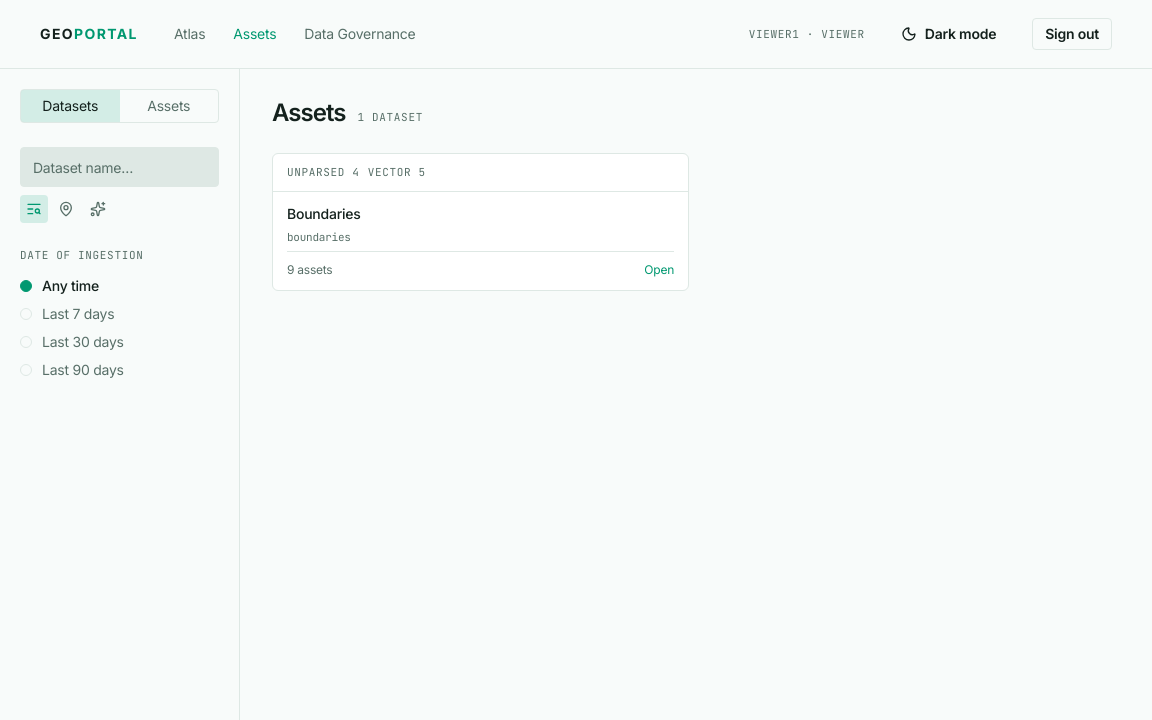
Test case: goes back to the first page when a filter changes
Step 1. Click the radio button labelled "Assets" → (169, 106), box [120,90,218,122]
(page scrolled)
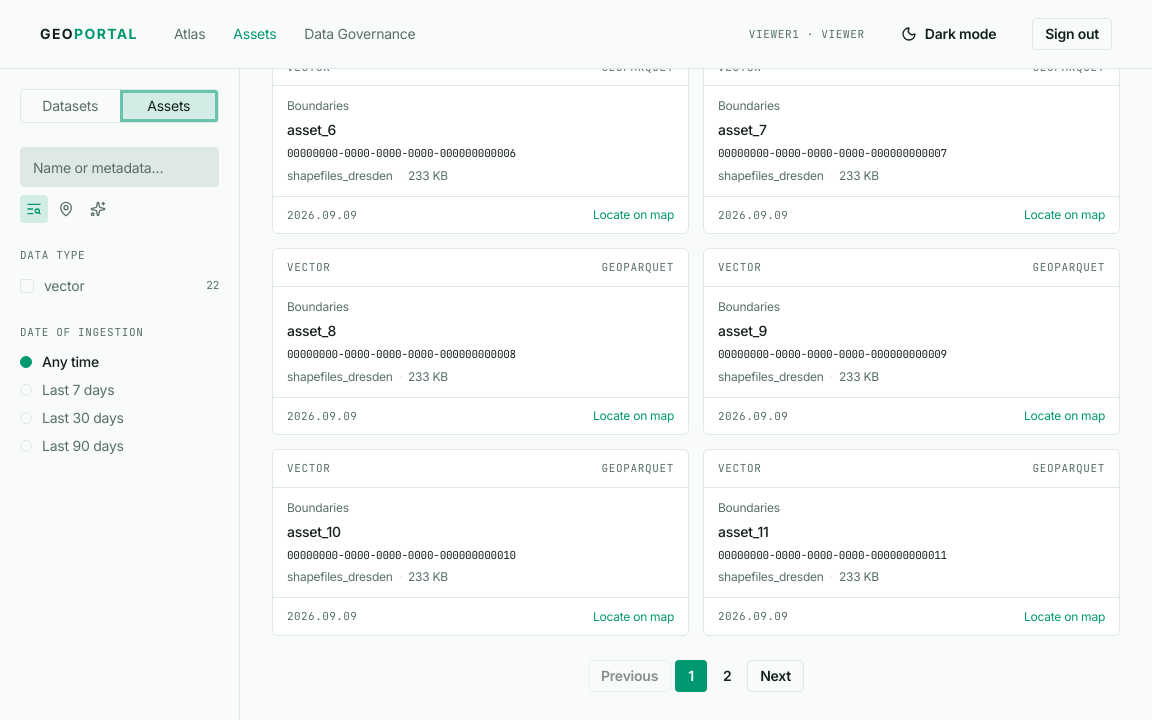
Step 2. Click the button named "Page 2" → (727, 676), box [711,660,743,692]
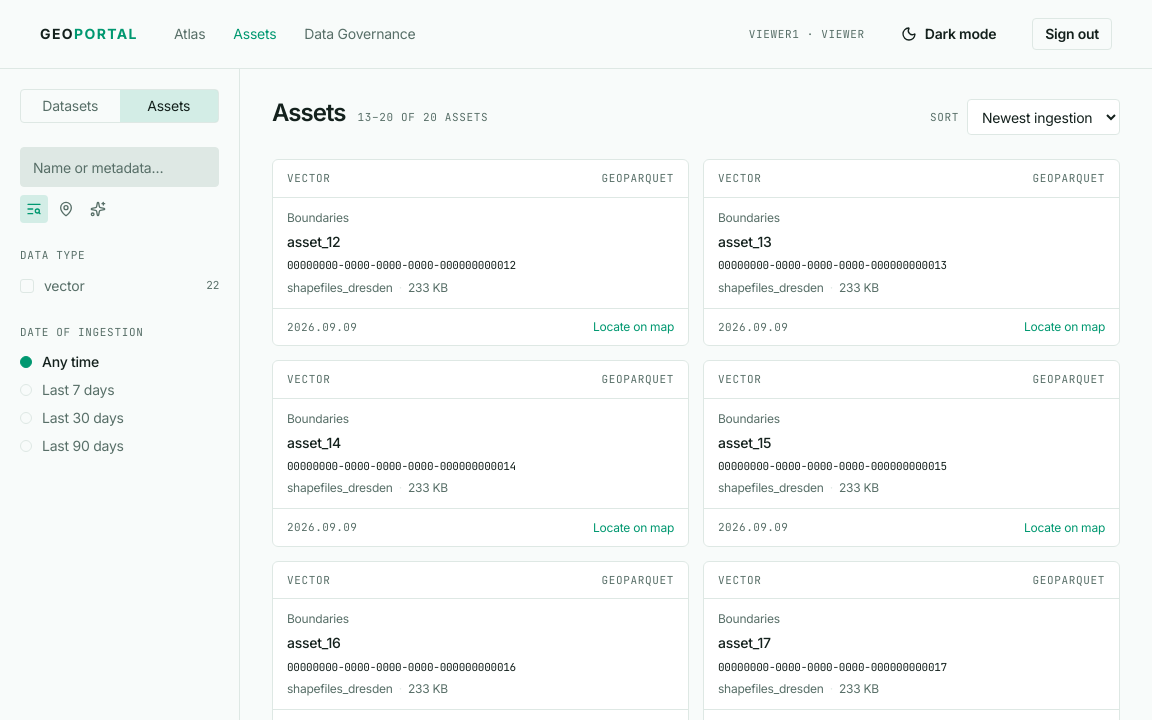
Check: the text "asset_12" is shown, box [287,233,340,250]
Step 3. Type "z" into the search field named "Search assets" → (120, 167), box [20,147,219,187]
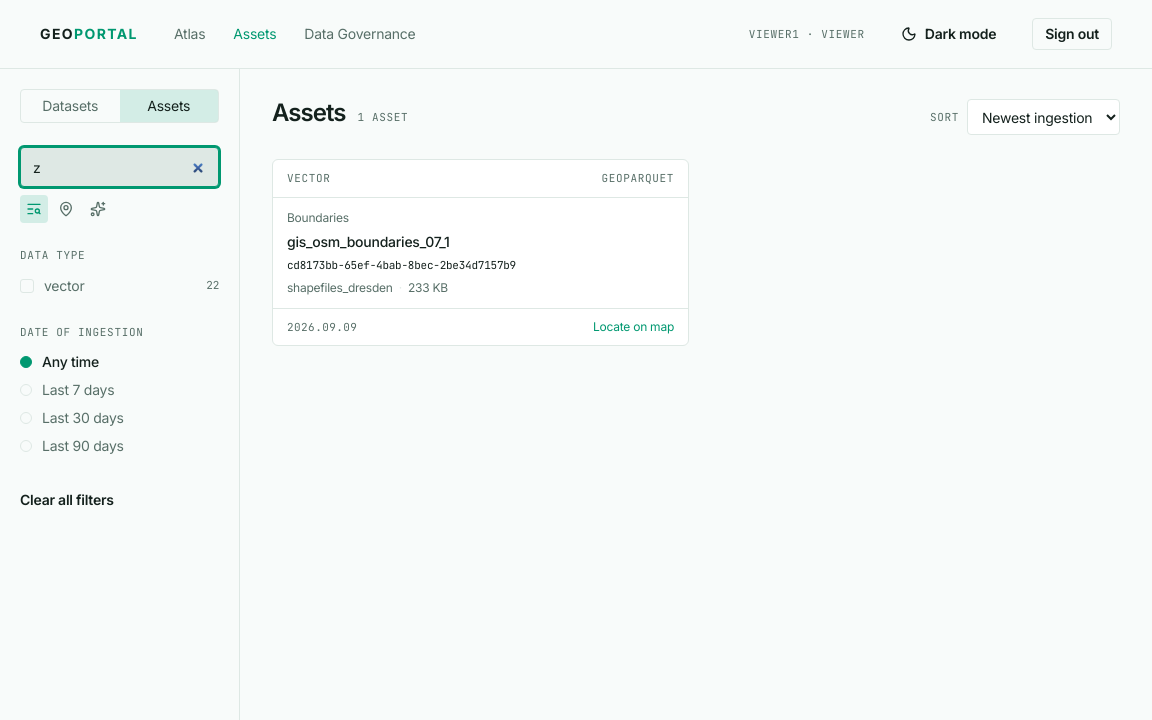
Check: the text "gis_osm_boundaries_07_1" is shown, box [287,233,450,250]
